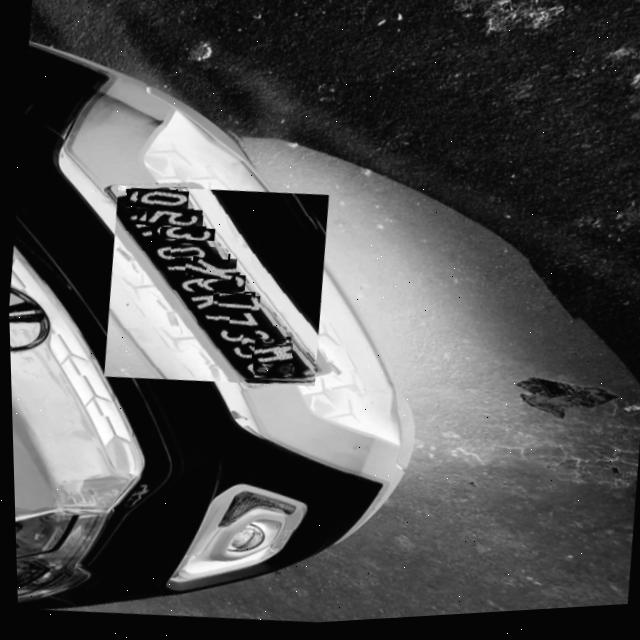0: (134, 187, 188, 213), (226, 306, 271, 333)
3: (157, 224, 214, 244)
5: (143, 205, 203, 232)
7: (168, 241, 227, 263), (214, 293, 259, 317)
C: (200, 273, 245, 298)
IND: (251, 356, 291, 383)
Indian_registered: (115, 188, 312, 383)
K: (189, 254, 236, 283)
M: (250, 338, 292, 368)
P: (238, 324, 285, 350)
